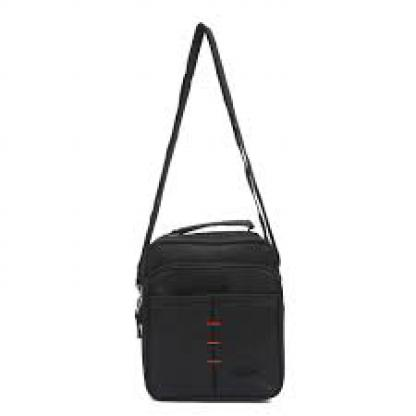morral: (98, 19, 333, 408)
